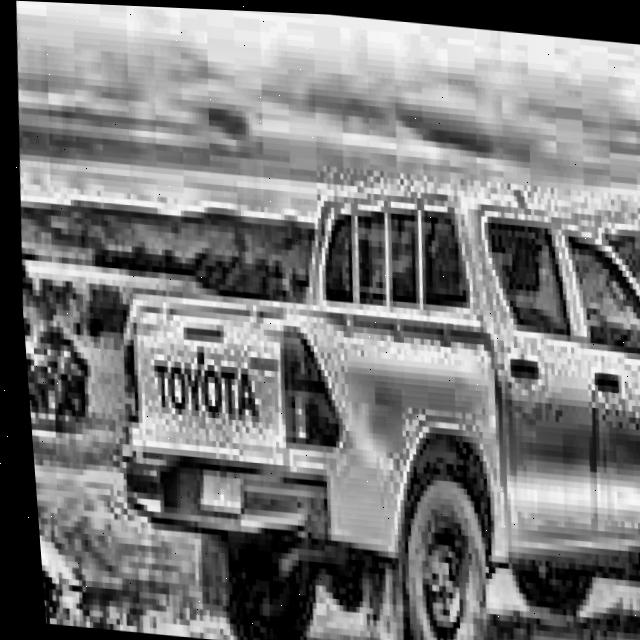light_vehicle: (61, 141, 640, 640)
